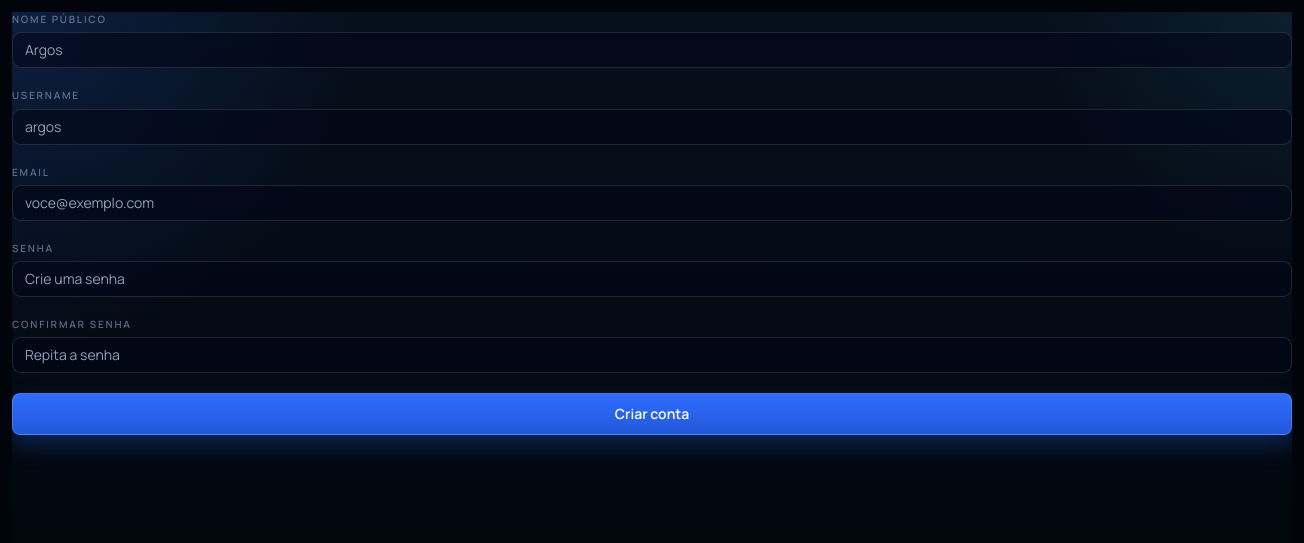
Scenario: RegisterForm › shows duplicate username and email errors from the auth service
In the field labelled "Nome público": {"x": 652, "y": 50} [12,32,1292,68], type "Mysto"
In the field labelled "Username": {"x": 652, "y": 127} [12,109,1292,145], type "mysto"
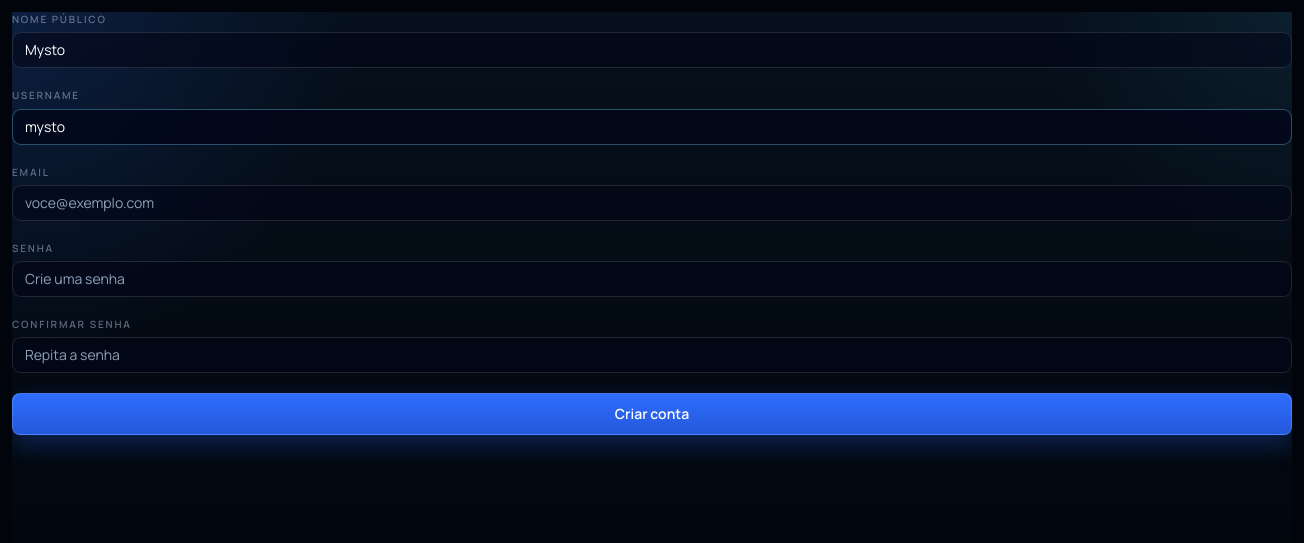
In the field labelled "Email": {"x": 652, "y": 203} [12,185,1292,221], type "mysto@example.com"
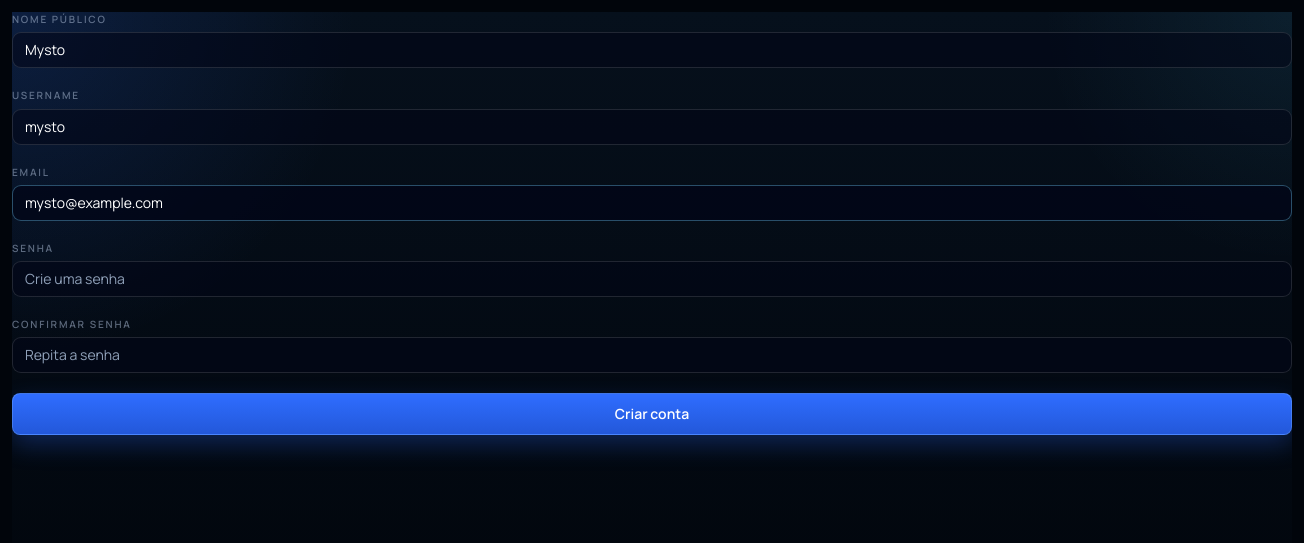
In the password field with placeholder "Crie uma senha": {"x": 652, "y": 279} [12,261,1292,297], type "senha123"
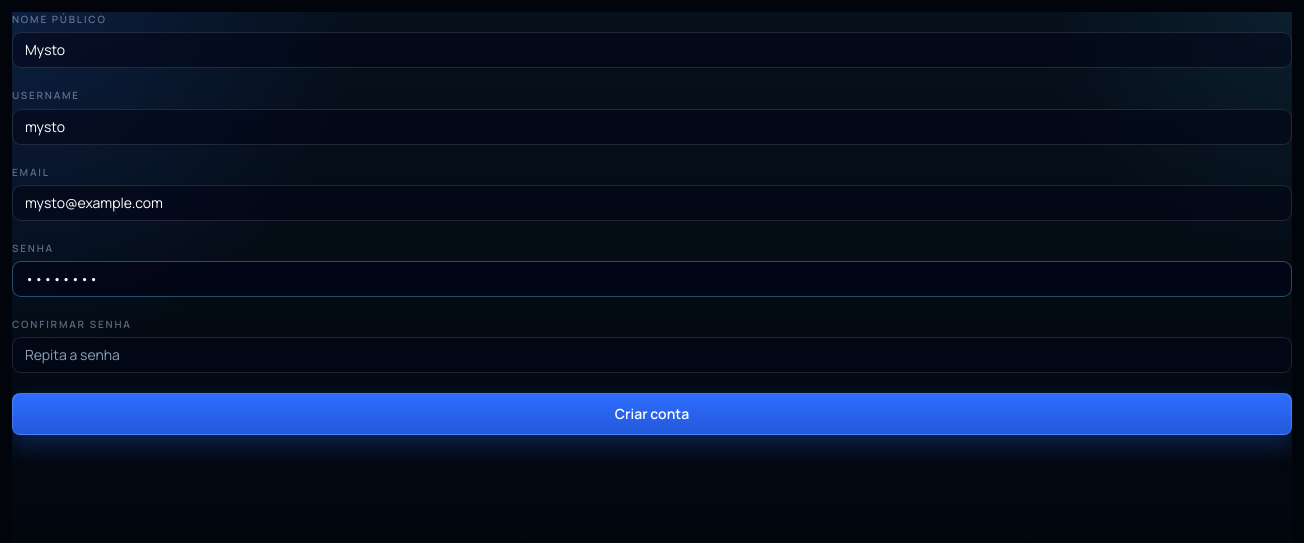
In the password field with placeholder "Repita a senha": {"x": 652, "y": 355} [12,337,1292,373], type "senha123"
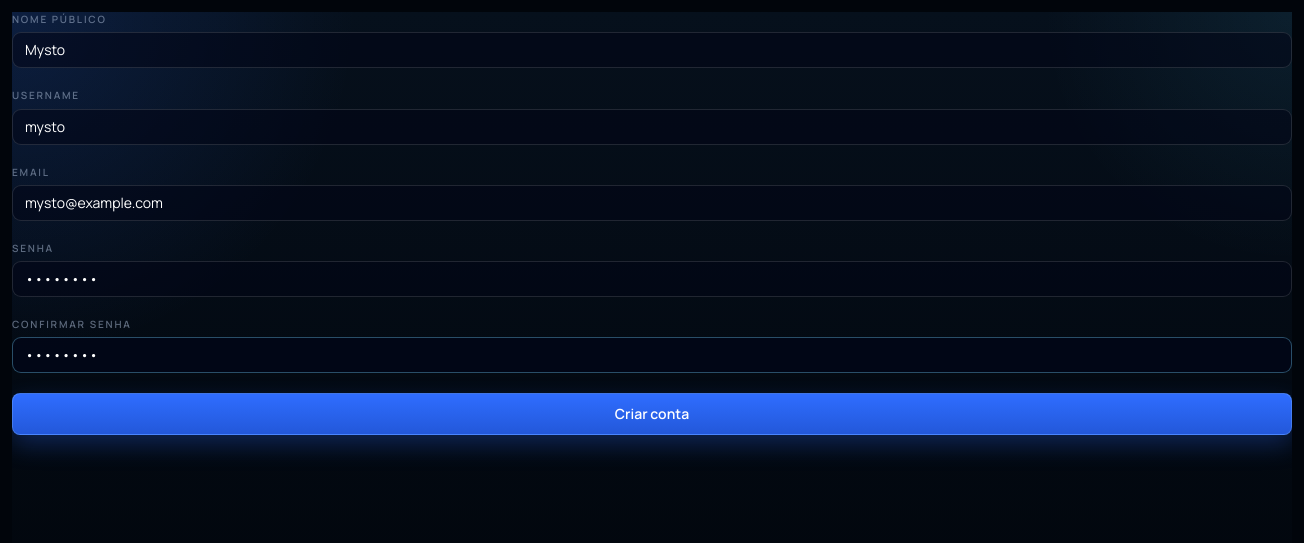
Click the button "Criar conta": {"x": 652, "y": 414} [12,393,1292,435]
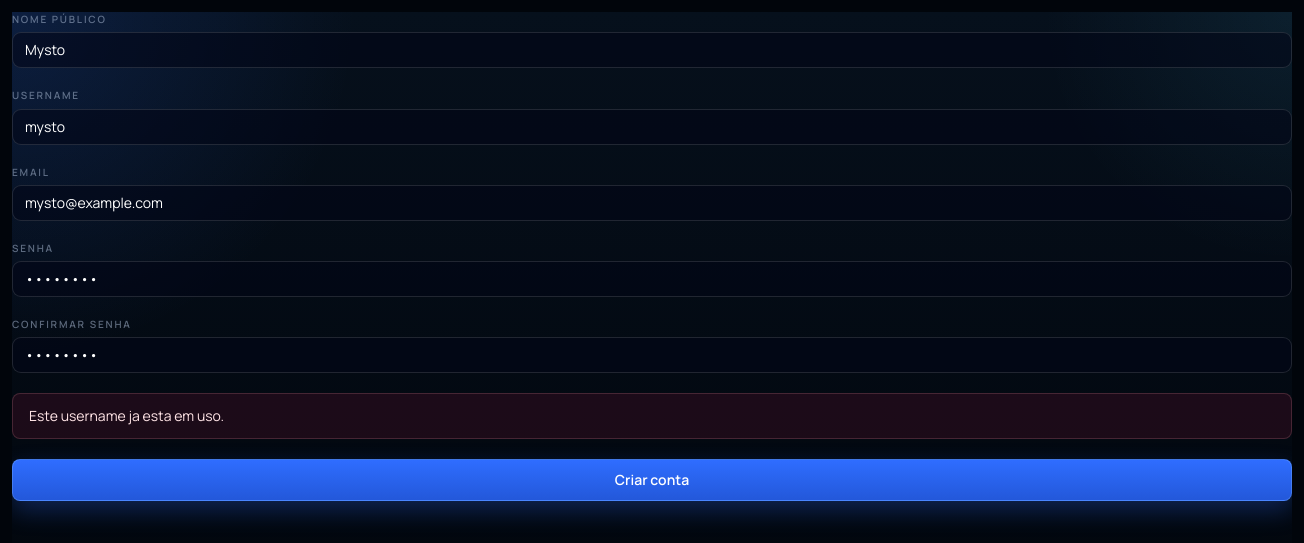
Now the text "Este username ja esta em uso." is shown, box [12,393,1292,439]
Click the button "Criar conta": {"x": 652, "y": 480} [12,459,1292,501]
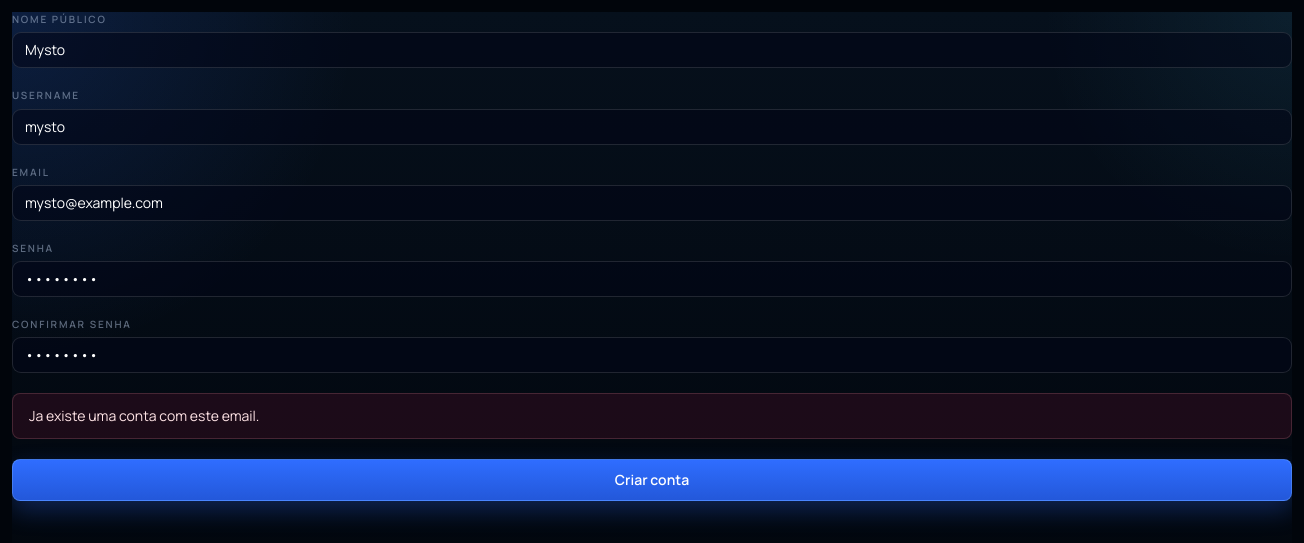
Now the text "Ja existe uma conta com este email." is shown, box [12,393,1292,439]
